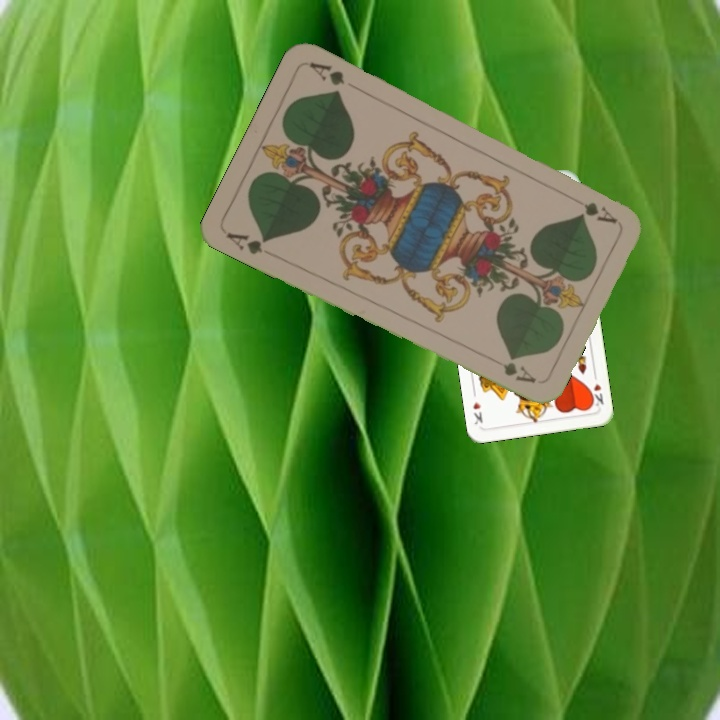GA: (571, 195, 620, 227), (222, 228, 271, 258)
HK: (586, 369, 606, 411)
